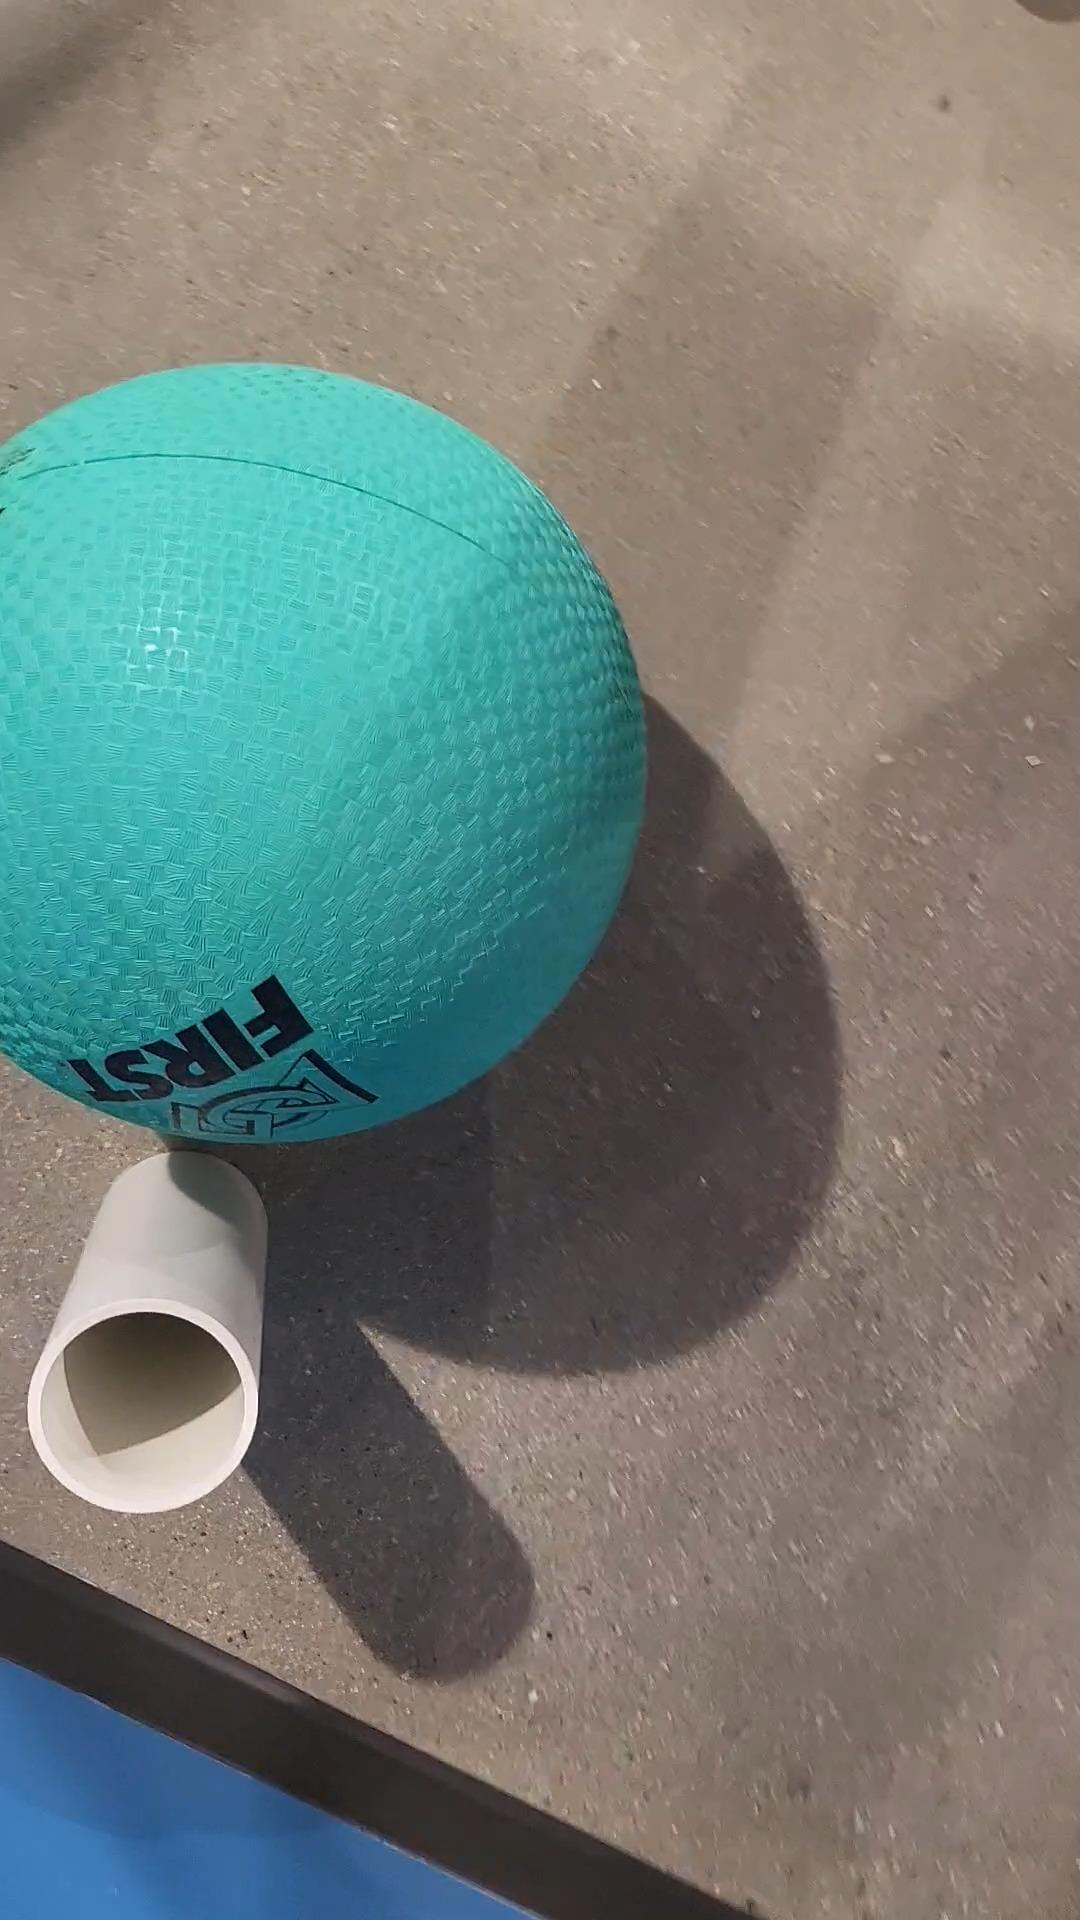algae: (0, 368, 640, 1145)
coral: (22, 1150, 276, 1513)
